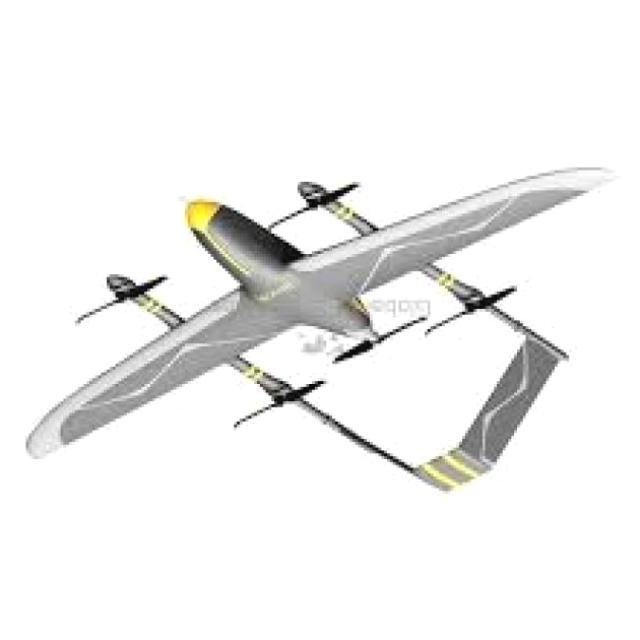plane: (23, 165, 620, 498)
